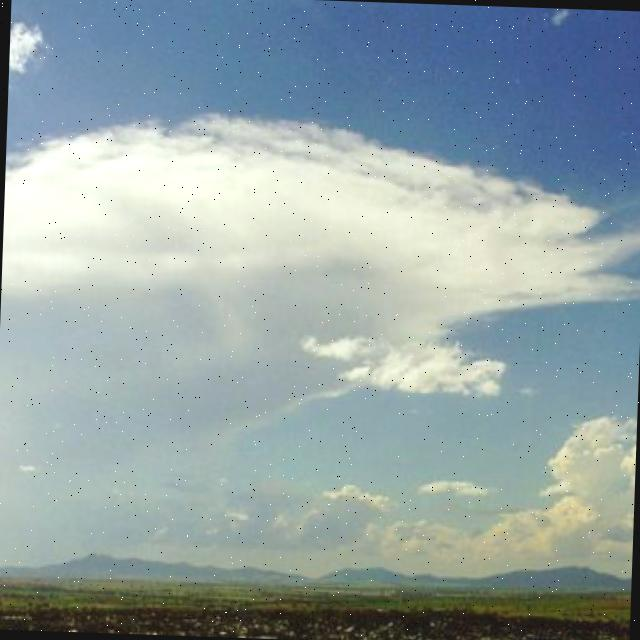Cu: (1, 52, 640, 549)
